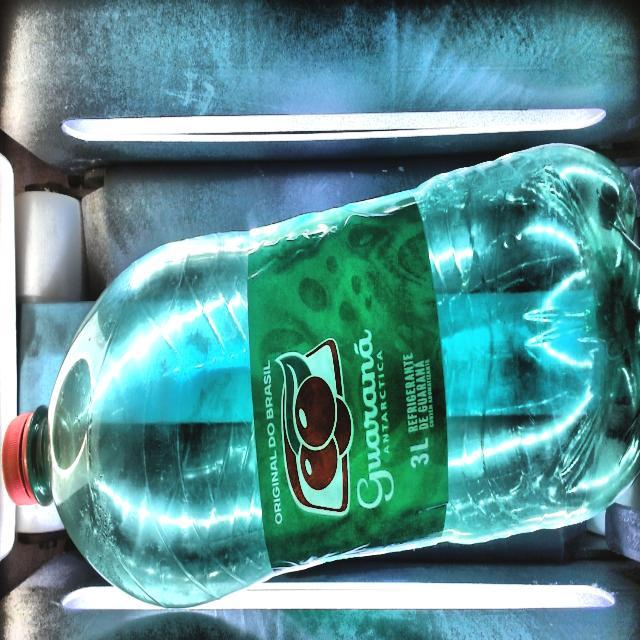bottle: (9, 145, 640, 606)
